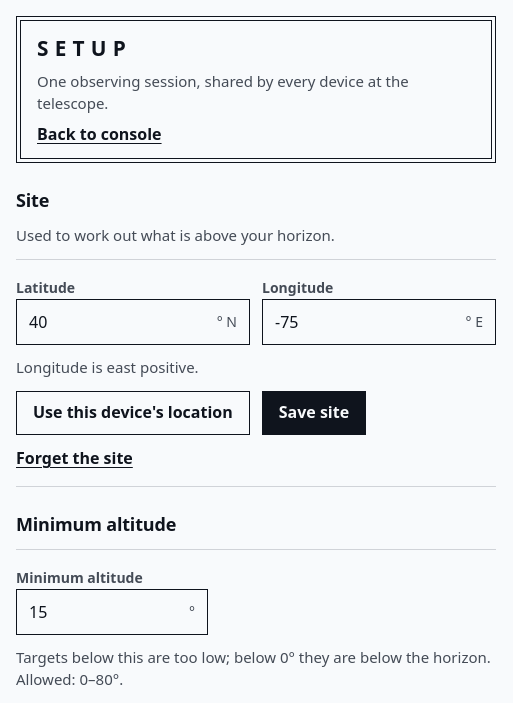
it: Setup › explains a denied location request
Click the button "Use this device's location" at (133, 413), box [16,391,250,435]
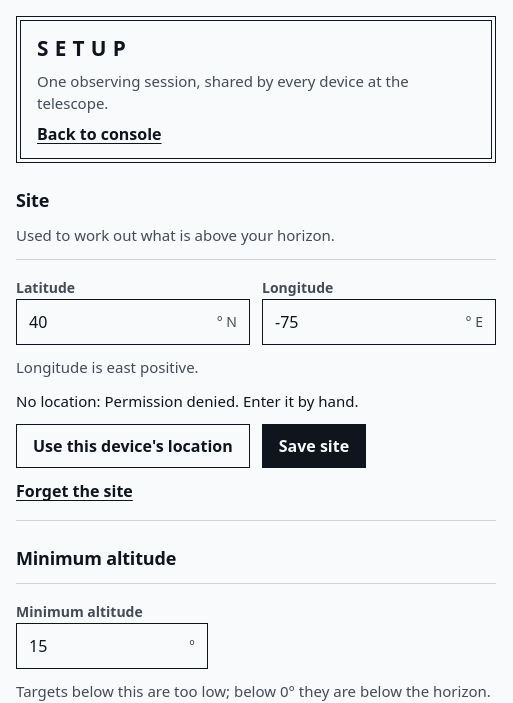
Check: the message reads "No location: Permission denied. Enter it by hand.", box [16,391,358,411]
